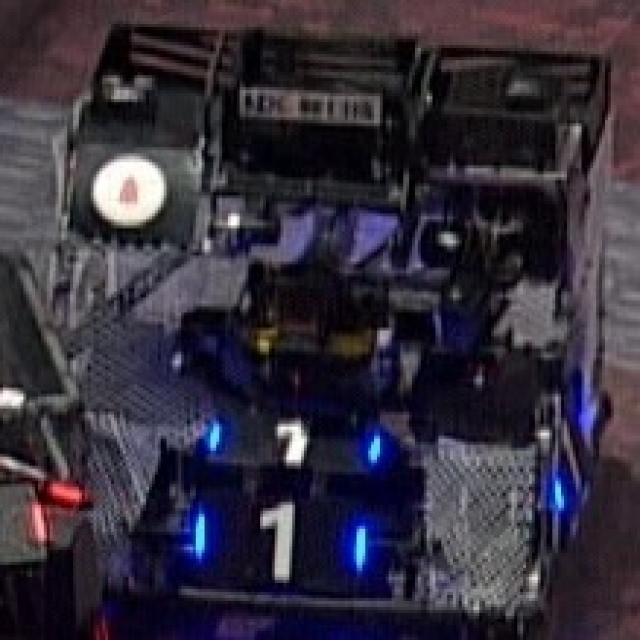B1: (174, 496, 378, 586), (191, 407, 396, 473), (529, 396, 602, 511)
